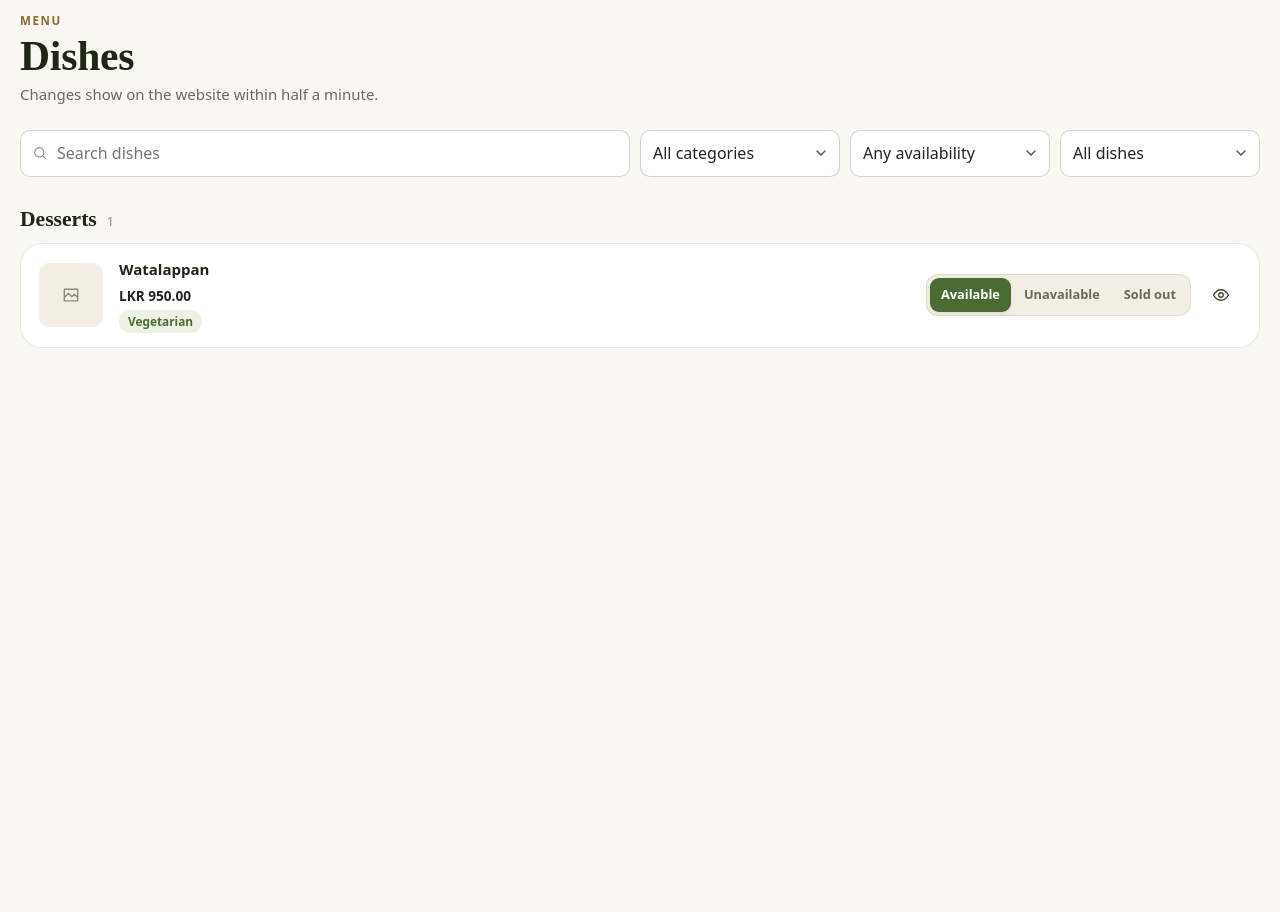
Test case: dish availability › puts the switch back if the server refuses
The width and height of the screenshot is (1280, 912).
What coordinates should you click on to do the following:
click the radio button labelled "Sold out"
I would click on:
 (1150, 294)
Its box is [1124,285,1176,303].
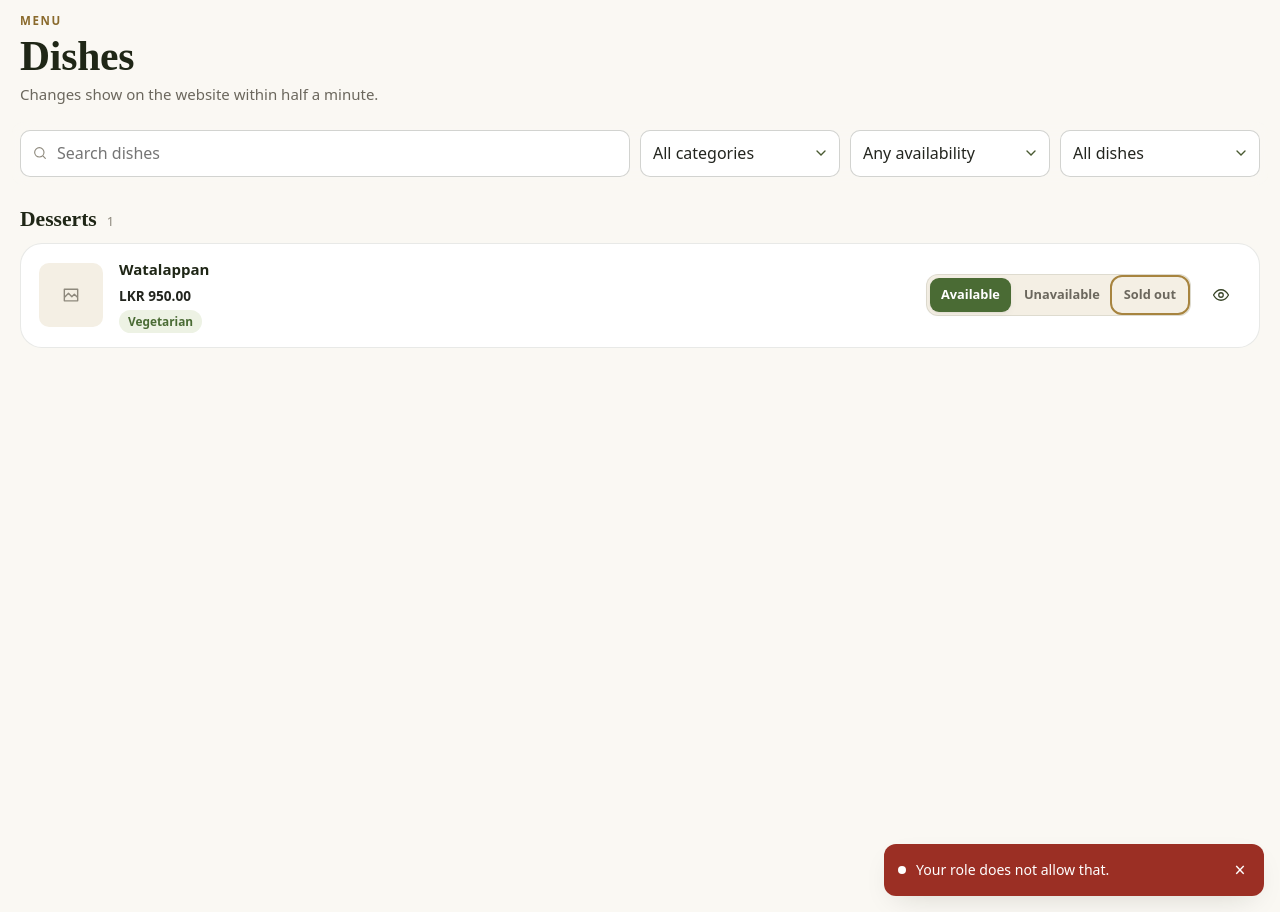
Expected: the text "Your role does not allow that." is shown, [916,860,1109,879]
